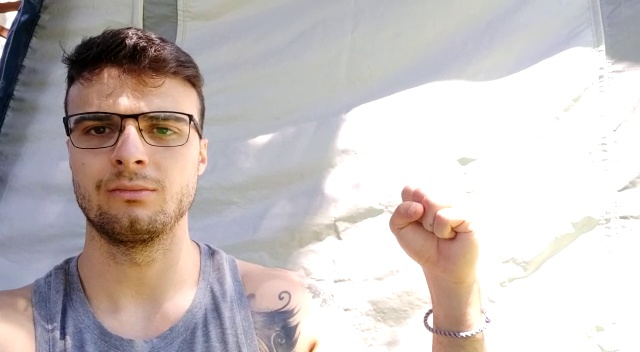Fist: (387, 176, 484, 283)
